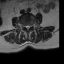CCS_normal: (26, 23, 28, 32)
LFS_normal: (30, 23, 32, 29)
LLS_normal: (28, 23, 30, 30)
RFS_stenosis: (23, 23, 25, 29)
RLS_normal: (25, 23, 26, 29)
